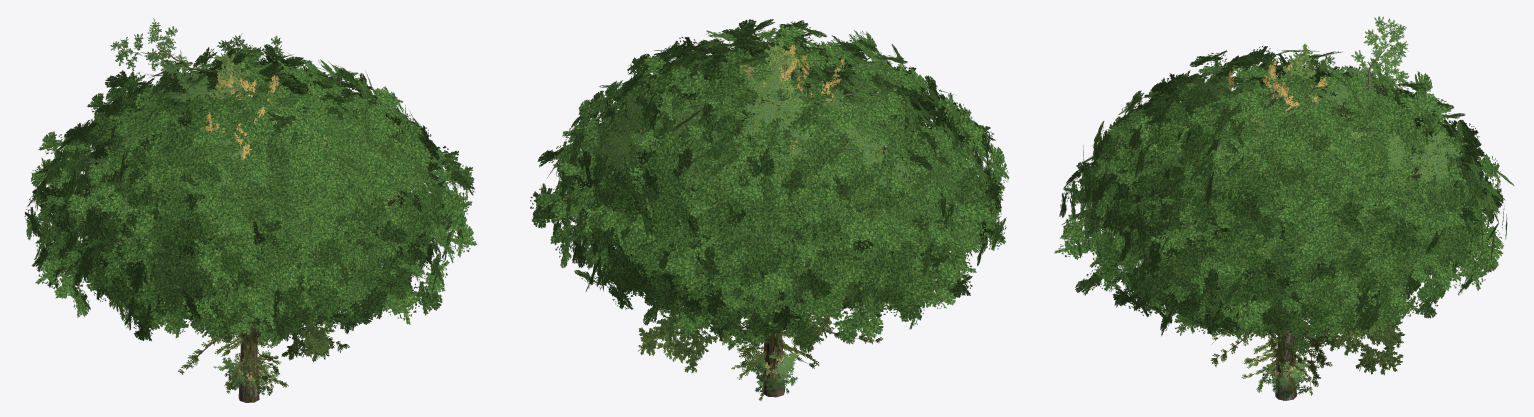
Rendered from trees.glb.
The picture shows the model from 3 angles, left to right: view 1: azimuth 30°, elevation 25°; view 2: azimuth 150°, elevation 25°; view 3: azimuth 270°, elevation 25°; orthographic projection. The views are drawn at different scales.
Visible parts, largest first — view 1: zelkova_a_leaves, zelkova_b_leaves, ash_a_leaves, pine_b_leaves, oak_a_leaves, oak_b_leaves, bush_a_leaves, aspen_a_leaves, zelkova_b_bark, pine_a_leaves; view 2: zelkova_a_leaves, zelkova_b_leaves, ash_a_leaves, oak_a_leaves, oak_b_leaves, bush_a_leaves, pine_b_leaves, aspen_a_leaves, ash_a_bark, pine_a_leaves; view 3: zelkova_a_leaves, zelkova_b_leaves, ash_a_leaves, oak_a_leaves, pine_a_leaves, pine_b_leaves, oak_b_leaves, bush_a_leaves, aspen_a_leaves, ash_a_bark.
Boxes of the visible parts, x1,y1,x2,y2 form: zelkova_a_leaves: [24, 61, 476, 347]; zelkova_b_leaves: [38, 44, 452, 330]; ash_a_leaves: [88, 18, 350, 359]; pine_b_leaves: [213, 329, 288, 395]; oak_a_leaves: [203, 89, 350, 362]; oak_b_leaves: [116, 53, 395, 278]; bush_a_leaves: [222, 348, 278, 399]; aspen_a_leaves: [178, 74, 279, 246]; zelkova_b_bark: [238, 213, 324, 402]; pine_a_leaves: [178, 327, 349, 374]; zelkova_a_leaves: [530, 36, 1009, 352]; zelkova_b_leaves: [557, 19, 987, 326]; ash_a_leaves: [588, 63, 907, 329]; oak_a_leaves: [618, 63, 876, 372]; oak_b_leaves: [621, 41, 927, 247]; bush_a_leaves: [746, 344, 797, 393]; pine_b_leaves: [731, 327, 819, 401]; aspen_a_leaves: [740, 44, 844, 148]; ash_a_bark: [626, 85, 877, 391]; pine_a_leaves: [677, 299, 883, 370]; zelkova_a_leaves: [1054, 52, 1514, 354]; zelkova_b_leaves: [1087, 46, 1484, 326]; ash_a_leaves: [1175, 16, 1489, 338]; oak_a_leaves: [1148, 85, 1406, 375]; pine_a_leaves: [1210, 319, 1365, 386]; pine_b_leaves: [1241, 318, 1323, 395]; oak_b_leaves: [1183, 43, 1424, 325]; bush_a_leaves: [1261, 349, 1311, 400]; aspen_a_leaves: [1226, 60, 1349, 150]; ash_a_bark: [1227, 45, 1427, 394].
Bounding box in the file's own units: 15.98 × 13.2 × 15.7.
8 materials, 8 textured.
